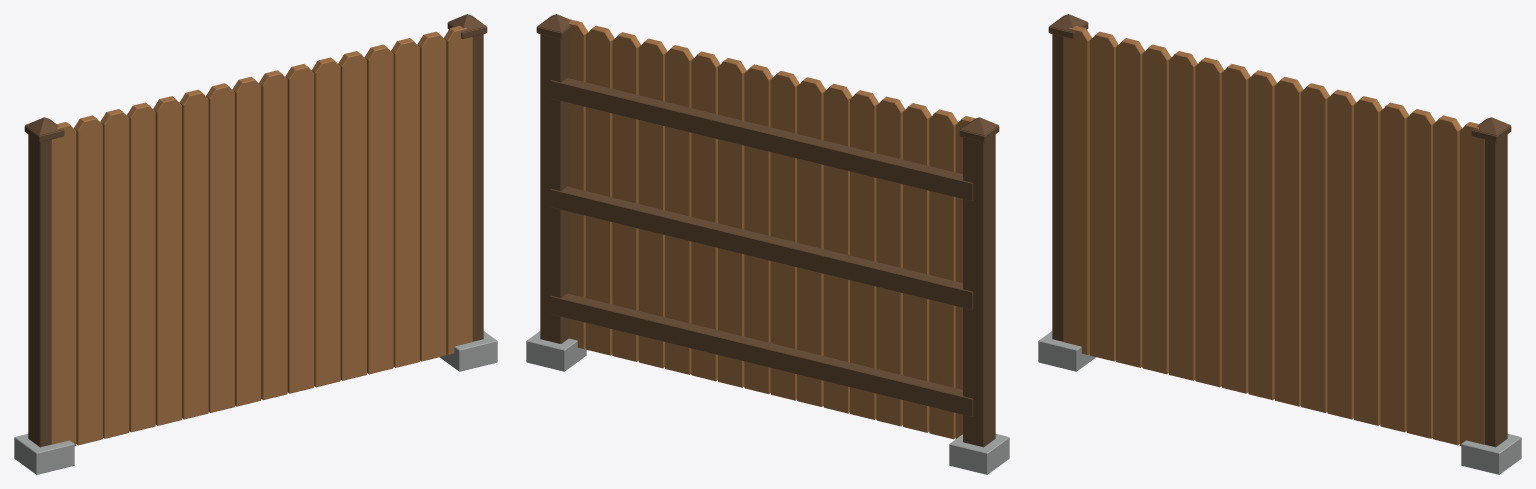
File: b19_dogear_stockade_fence.glb
3 views of the same model, side by side, from view 1: azimuth 30°, elevation 25°; view 2: azimuth 150°, elevation 25°; view 3: azimuth 330°, elevation 25° (orthographic).
Visible parts, largest first — view 1: b19_dogear_stockade_fence; view 2: b19_dogear_stockade_fence; view 3: b19_dogear_stockade_fence.
Boxes of the visible parts, x1=… form: b19_dogear_stockade_fence: x1=14, y1=14, x2=497, y2=474; b19_dogear_stockade_fence: x1=526, y1=14, x2=1009, y2=474; b19_dogear_stockade_fence: x1=1038, y1=14, x2=1521, y2=474.
Bounding box in the file's own units: 2.62 × 1.87 × 0.22.
